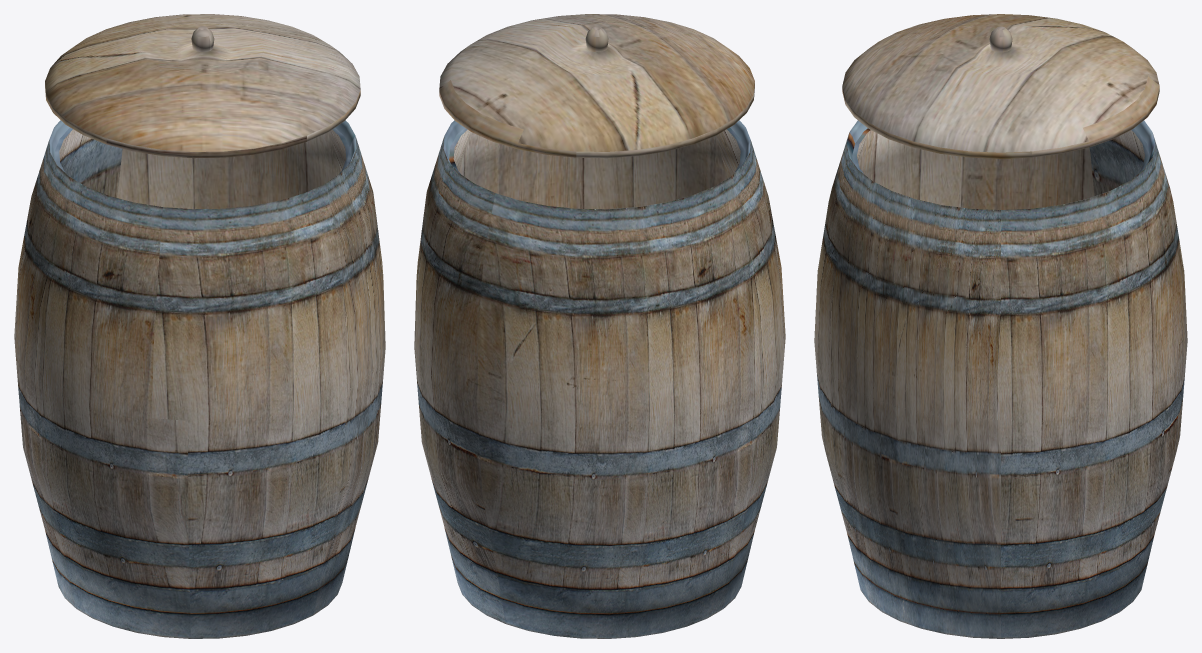
The model's file is Barrel.fbx.
3 views of the same model, side by side, from view 1: azimuth 30°, elevation 25°; view 2: azimuth 150°, elevation 25°; view 3: azimuth 270°, elevation 25° (orthographic).
Parts seen in each view (by area): view 1: Boddy, Up; view 2: Boddy, Up; view 3: Boddy, Up.
Boxes of the visible parts, left/top/right/bottom form: Boddy: left=14, top=120, right=385, bottom=638; Up: left=45, top=14, right=360, bottom=158; Boddy: left=414, top=120, right=785, bottom=638; Up: left=439, top=14, right=754, bottom=158; Boddy: left=814, top=120, right=1187, bottom=638; Up: left=842, top=14, right=1159, bottom=158.
Bounding box in the file's own units: 791 × 1290 × 791.
2 materials, 2 textured.
